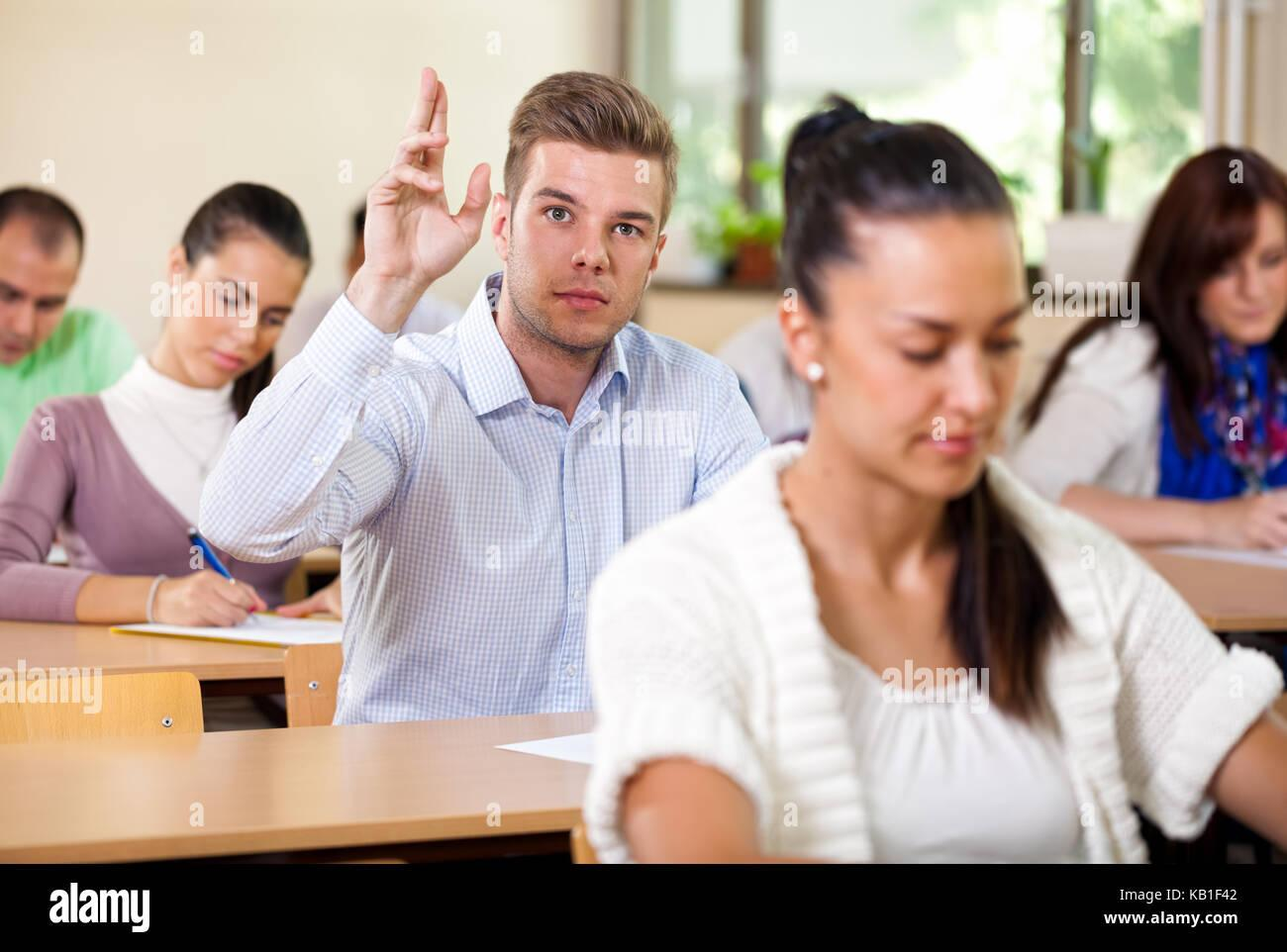study: (217, 61, 765, 728)
